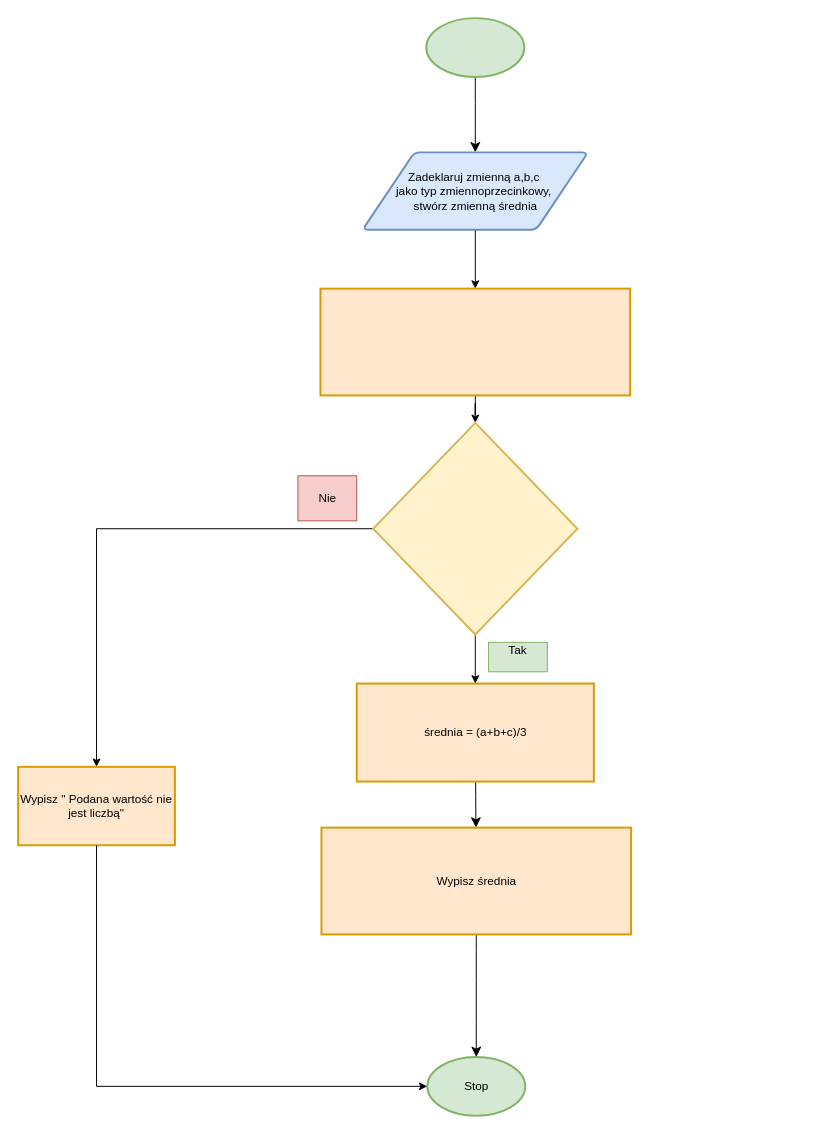
The diagram is 827 pixels wide and 1133 high, and some of its shapes have lost their labels. Each missing label, with the centre of its shape:
Czy a , b oraz c są wartościami liczbowymi?: point 475,528
Odczytaj wartośc zmiennych a,b,c: point 475,341
Start: point 475,47
